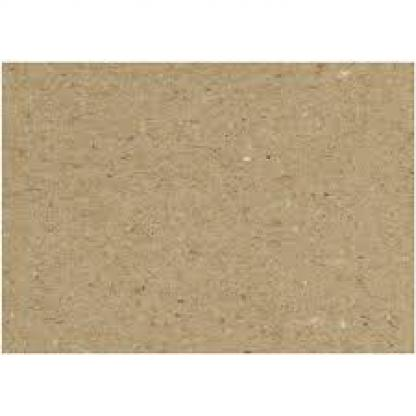CARDBOARD: (0, 59, 414, 350)
